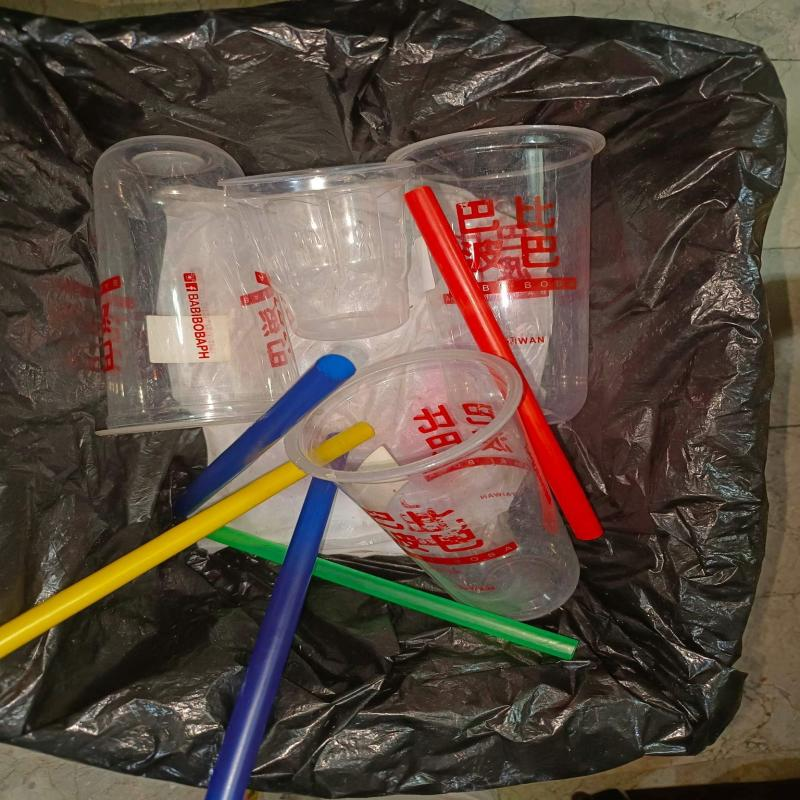plastic container: (287, 350, 580, 623), (385, 125, 605, 425), (93, 136, 299, 438), (218, 162, 415, 342)
plastic straw: (404, 186, 605, 542), (0, 462, 307, 661), (204, 476, 339, 800), (173, 355, 356, 518), (312, 558, 580, 661), (206, 527, 290, 565), (310, 422, 376, 465)
